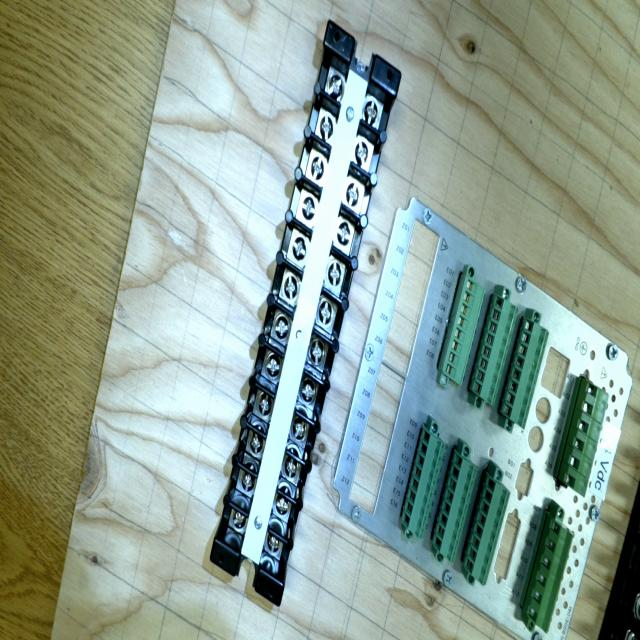Phillips_Block: (203, 21, 408, 607)
Terminal_1: (521, 517, 577, 633), (559, 380, 611, 498)
Terminal_2: (460, 474, 513, 587), (498, 317, 551, 430), (468, 294, 521, 407), (429, 452, 480, 563), (398, 428, 449, 539)
